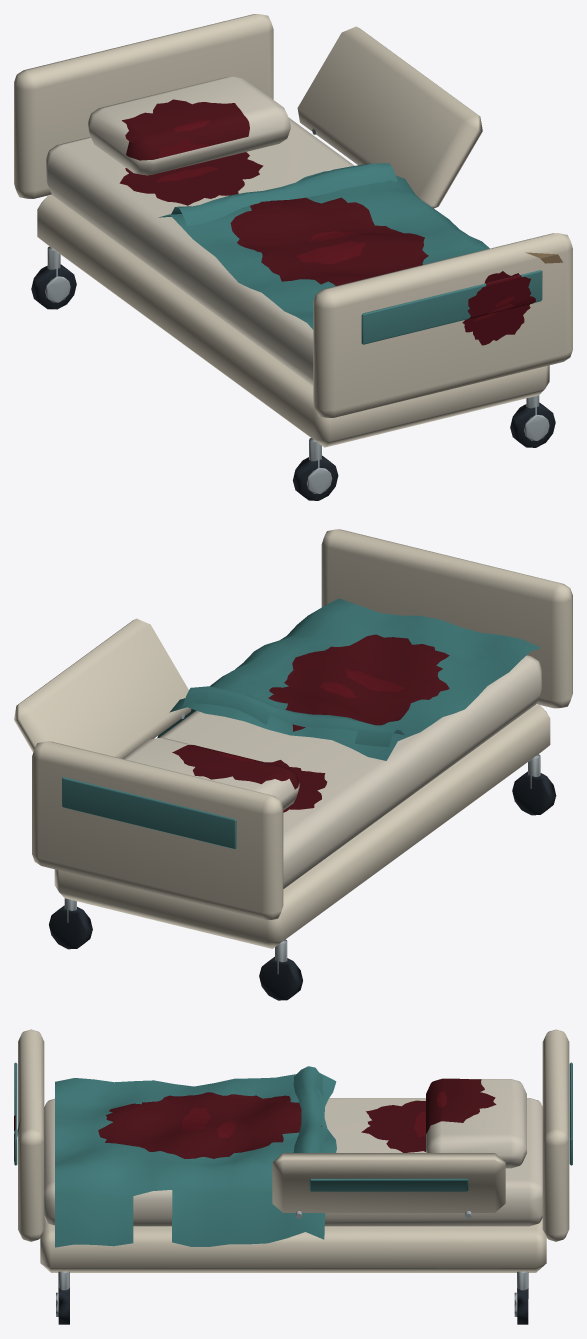
File: recovery_bed_open_nx.glb
The picture shows the model from 3 angles, top to bottom: view 1: azimuth 30°, elevation 25°; view 2: azimuth 150°, elevation 25°; view 3: azimuth 270°, elevation 25°; orthographic projection. The views are drawn at different scales.
Parts seen in each view (by area): view 1: recovery_bed_open_nx; view 2: recovery_bed_open_nx; view 3: recovery_bed_open_nx.
Part boxes in pixels (x1,y1,x2,y2): recovery_bed_open_nx: (14,14,572,500); recovery_bed_open_nx: (14,529,572,1000); recovery_bed_open_nx: (14,1029,572,1324).
Bounding box in the file's own units: 1.19 × 0.82 × 2.11.
